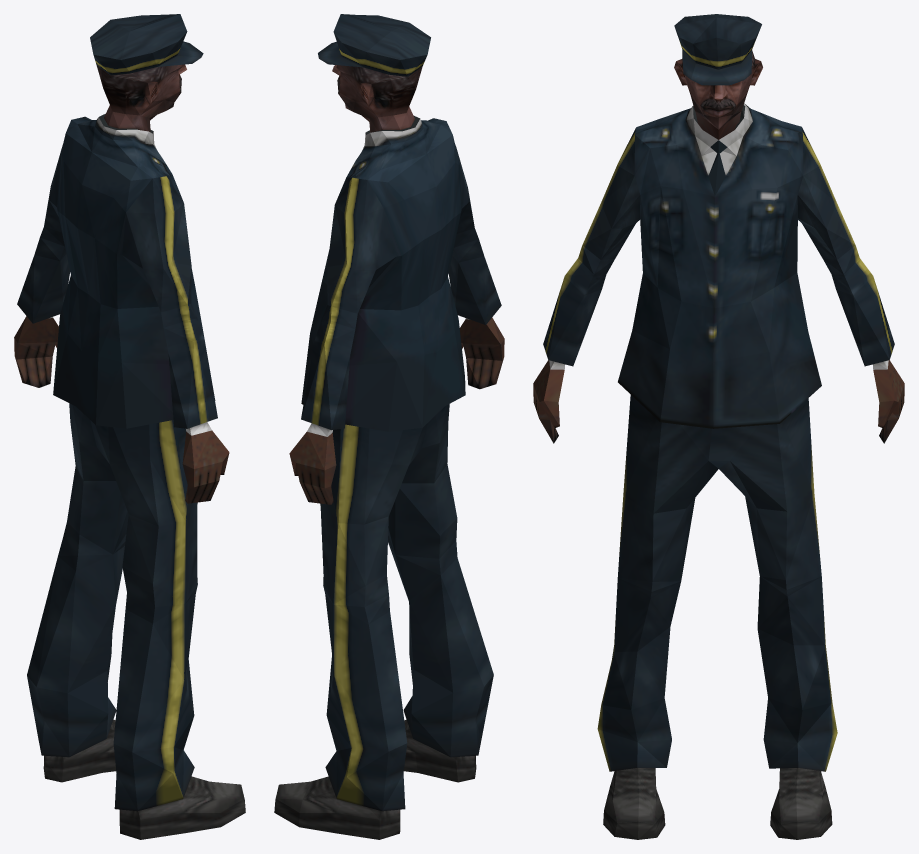
The model's file is bmosec.obj.
3 views of the same model, side by side, from view 1: azimuth 30°, elevation 25°; view 2: azimuth 150°, elevation 25°; view 3: azimuth 270°, elevation 25° (orthographic). The views are drawn at different scales.
Parts seen in each view (by area): view 1: _Pelvis; view 2: _Pelvis; view 3: _Pelvis.
Boxes of the visible parts, x1,y1,x2,y2 form: _Pelvis: (14, 14, 245, 839); _Pelvis: (274, 14, 504, 839); _Pelvis: (533, 14, 904, 839).
Bounding box in the file's own units: 0.3034 × 1.7 × 0.7191.
1 material, 1 textured.
